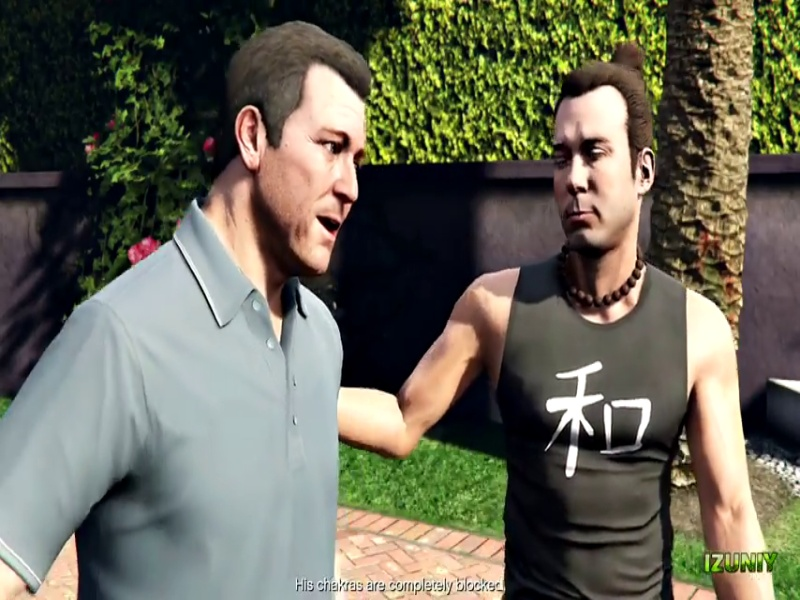human: (14, 25, 675, 593)
